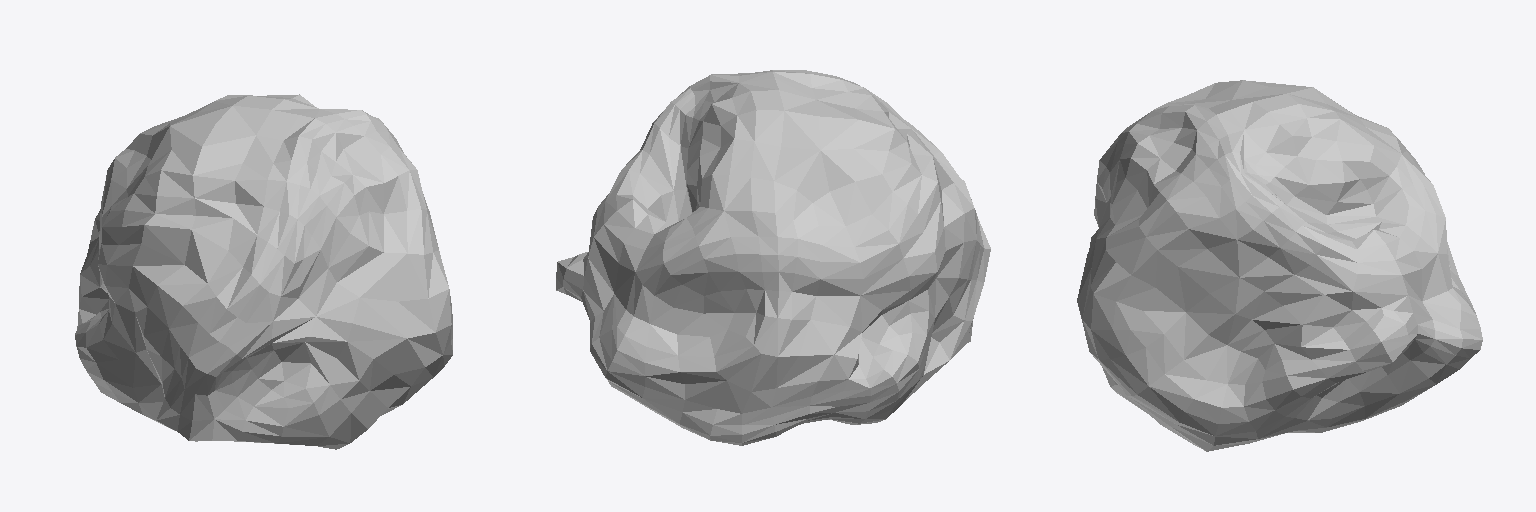
File: Rock Large.obj
The picture shows the model from 3 angles: view 1: azimuth 30°, elevation 25°; view 2: azimuth 150°, elevation 25°; view 3: azimuth 270°, elevation 25°; orthographic projection.
Parts seen in each view (by area): view 1: Group23729; view 2: Group23729; view 3: Group23729.
Part boxes in pixels (left/top/right/bottom): Group23729: left=75, top=94, right=452, bottom=449; Group23729: left=556, top=70, right=990, bottom=445; Group23729: left=1077, top=80, right=1482, bottom=451.
Bounding box in the file's own units: 1.81 × 1.68 × 1.99.